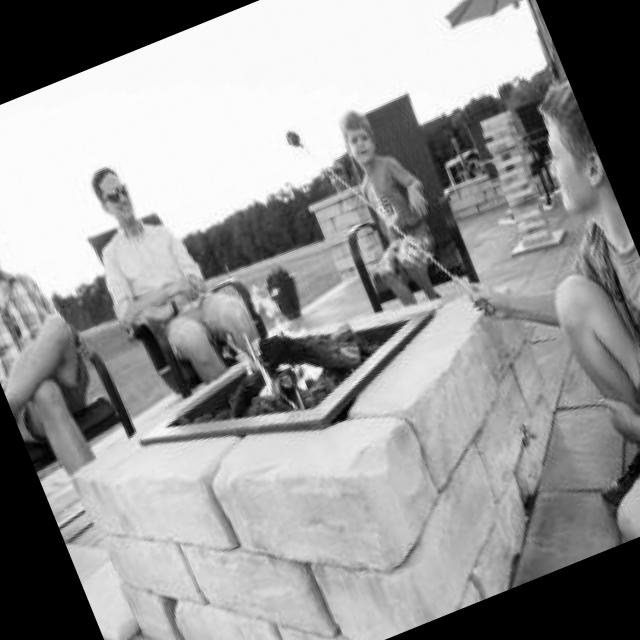fire: (204, 272, 334, 432)
